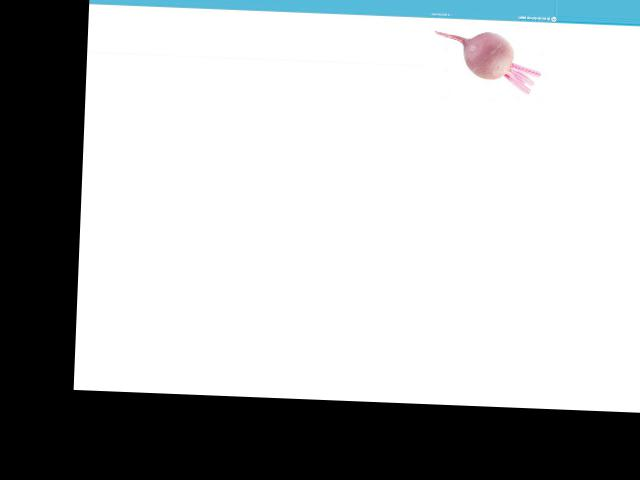beet: (433, 30, 541, 93)
